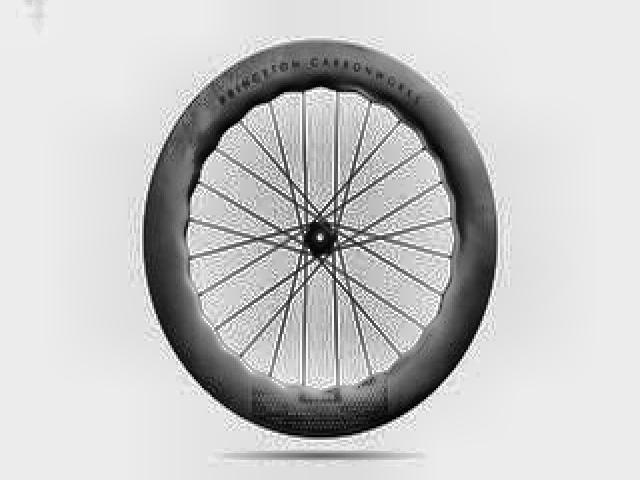wheel: (136, 32, 501, 445)
